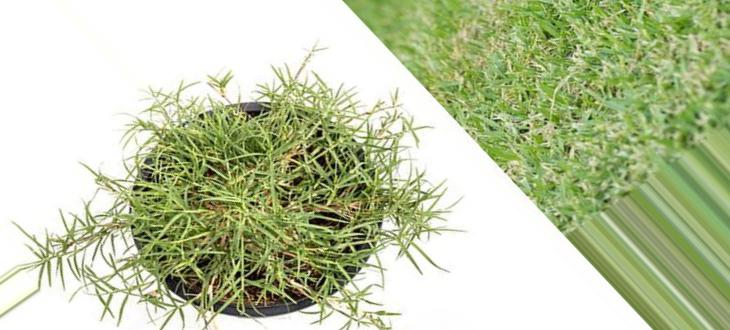patch: (522, 159, 536, 178)
